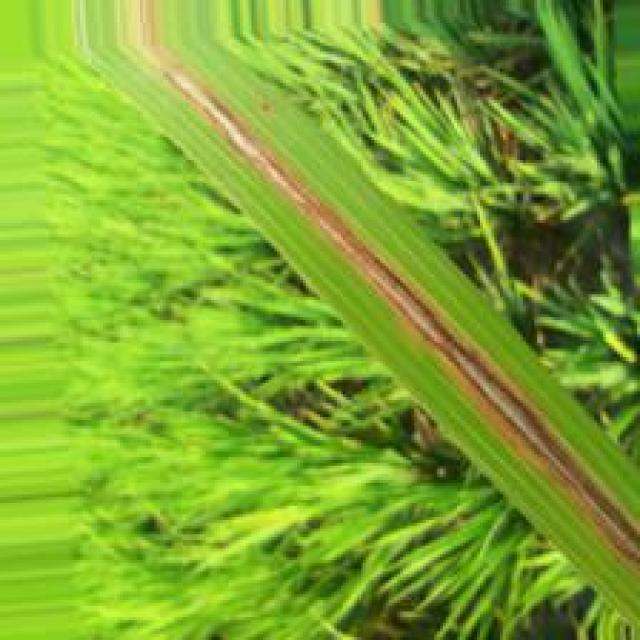Leaf_Blast: (139, 0, 640, 581)
